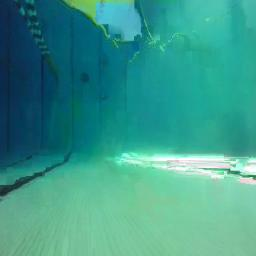Full: (80, 76, 90, 84), (101, 95, 108, 100)
